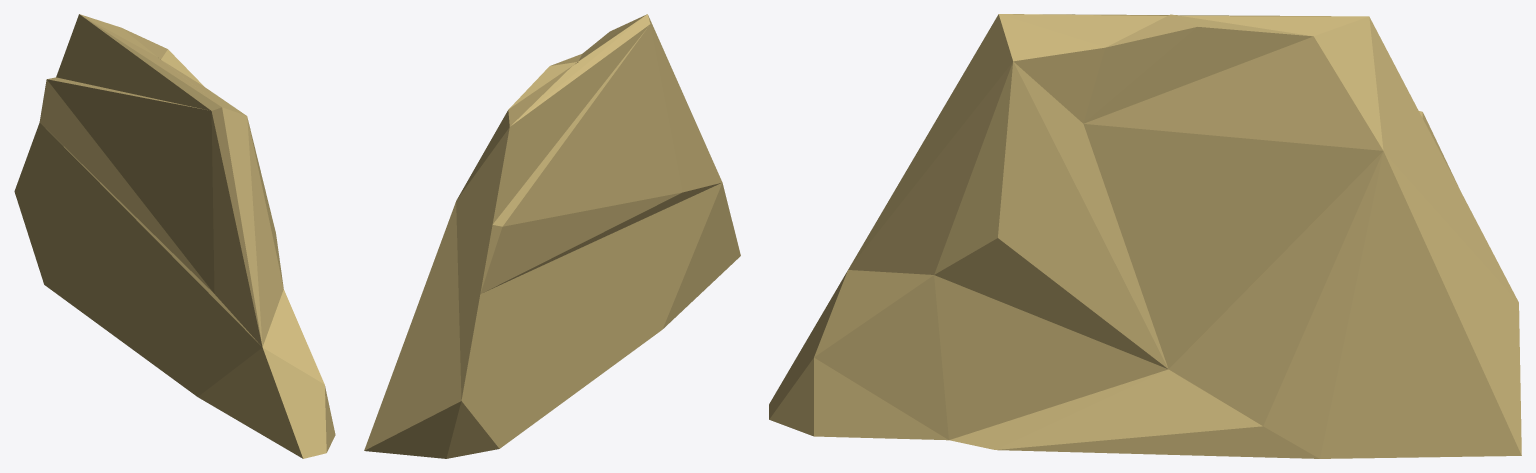
The model's file is Rock.fbx.
3 views of the same model, side by side, from view 1: azimuth 30°, elevation 25°; view 2: azimuth 150°, elevation 25°; view 3: azimuth 270°, elevation 25° (orthographic). The views are drawn at different scales.
Parts seen in each view (by area): view 1: Group1; view 2: Group1; view 3: Group1.
Boxes of the visible parts, x1,y1,x2,y2 form: Group1: [14, 14, 335, 458]; Group1: [364, 14, 740, 458]; Group1: [769, 14, 1521, 458].
Bounding box in the file's own units: 3255 × 8818 × 15290.
